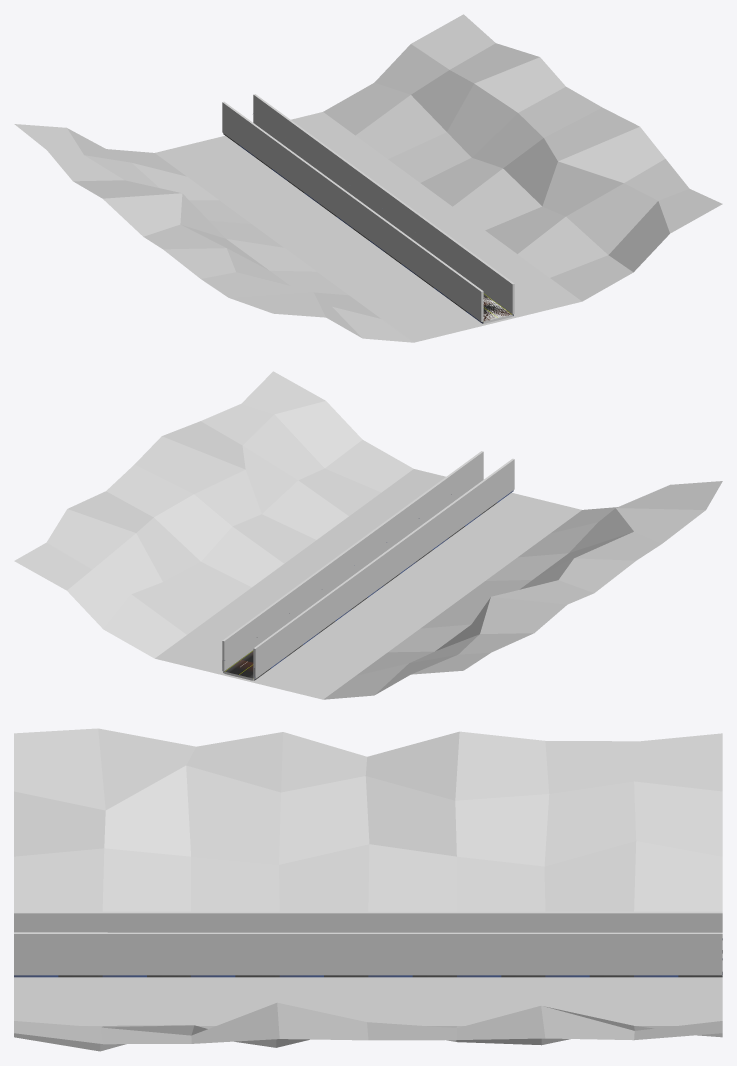
The model's file is RoadLevel1.fbx.
3 views of the same model, one above another, from view 1: azimuth 30°, elevation 25°; view 2: azimuth 150°, elevation 25°; view 3: azimuth 270°, elevation 25° (orthographic). The views are drawn at different scales.
Visible parts, largest first — view 1: RoadLevel1, RoadLevel1_cldr_walls; view 2: RoadLevel1, RoadLevel1_cldr_walls; view 3: RoadLevel1, RoadLevel1_cldr_walls.
Boxes of the visible parts, x1,y1,x2,y2 form: RoadLevel1: [14, 14, 722, 342]; RoadLevel1_cldr_walls: [222, 94, 514, 321]; RoadLevel1: [14, 371, 722, 699]; RoadLevel1_cldr_walls: [222, 451, 514, 678]; RoadLevel1: [14, 728, 722, 1051]; RoadLevel1_cldr_walls: [14, 911, 722, 975].
Bounding box in the file's own units: 426 × 56.19 × 400.
